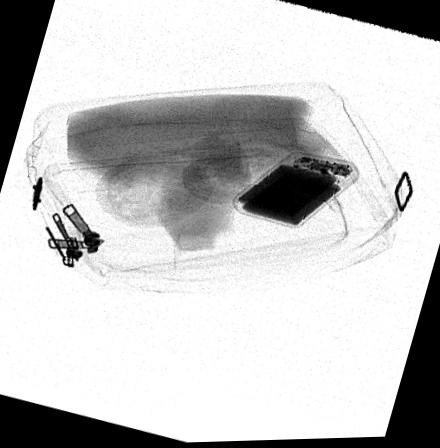Powerbank: (231, 153, 362, 230)
